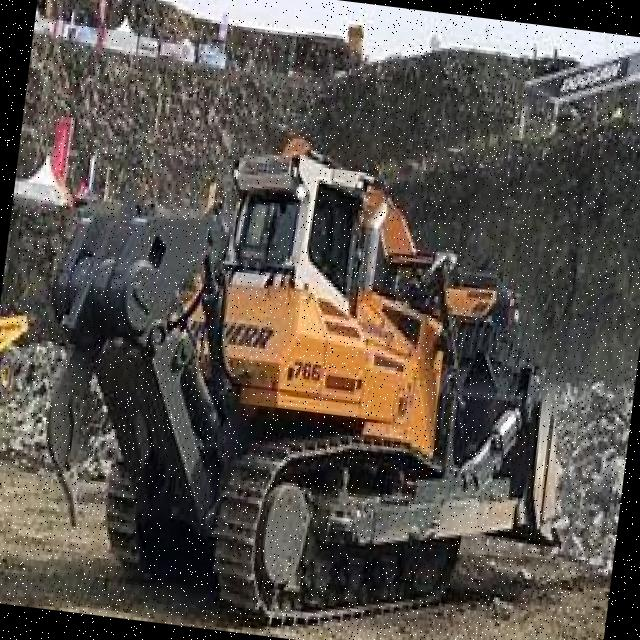Bulldozer: (2, 65, 633, 640)
